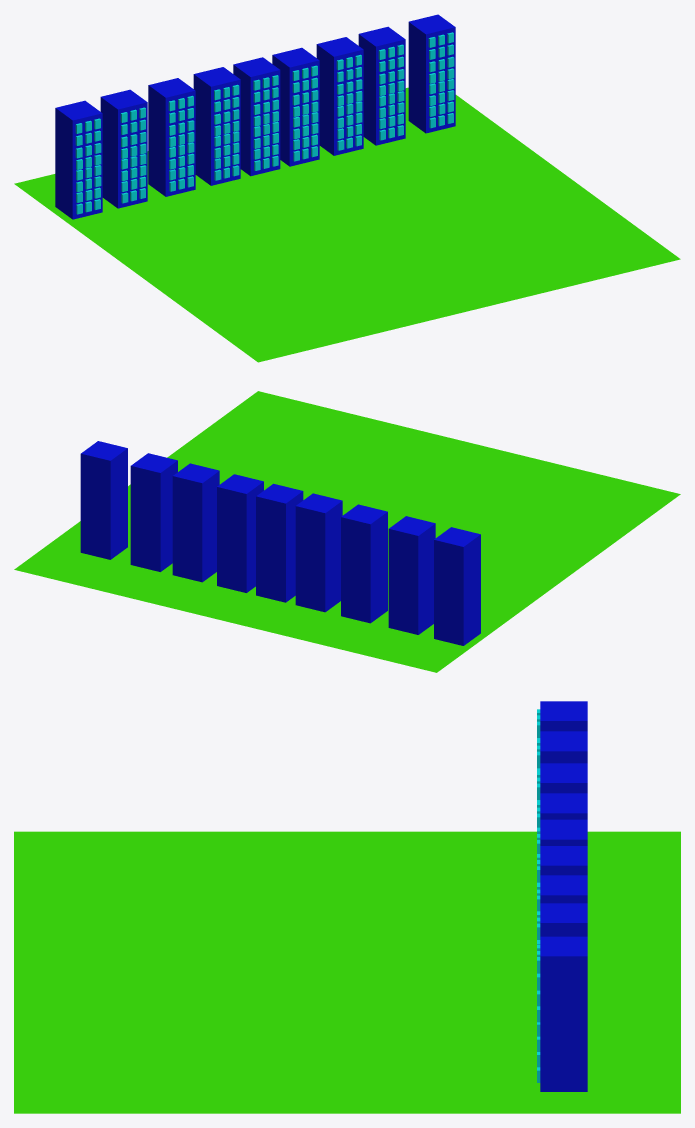
Rendered from City.glb.
3 views of the same model, one above another, from view 1: azimuth 30°, elevation 25°; view 2: azimuth 150°, elevation 25°; view 3: azimuth 270°, elevation 25° (orthographic). The views are drawn at different scales.
Visible parts, largest first — view 1: Plane, Cube.002, Cube.008, Cube, Cube.001, Cube.003, Cube.006, Cube.007, Cube.004, Cube.005; view 2: Plane, Cube.008, Cube, Cube.002, Cube.001, Cube.003, Cube.006, Cube.007, Cube.004, Cube.005; view 3: Plane, Cube.008, Cube.007, Cube.001, Cube, Cube.002, Cube.005, Cube.006, Cube.003, Cube.004.
Part boxes in pixels (x1=…): Plane: x1=14, y1=87, x2=680, y2=362; Cube.002: x1=148, y1=78, x2=195, y2=196; Cube.008: x1=408, y1=14, x2=455, y2=133; Cube: x1=55, y1=100, x2=102, y2=219; Cube.001: x1=100, y1=89, x2=147, y2=208; Cube.003: x1=193, y1=67, x2=240, y2=185; Cube.006: x1=316, y1=37, x2=363, y2=155; Cube.007: x1=358, y1=26, x2=405, y2=145; Cube.004: x1=233, y1=57, x2=280, y2=176; Cube.005: x1=272, y1=47, x2=319, y2=166; Plane: x1=14, y1=391, x2=680, y2=672; Cube.008: x1=80, y1=441, x2=127, y2=559; Cube: x1=434, y1=527, x2=480, y2=645; Cube.002: x1=341, y1=504, x2=387, y2=623; Cube.001: x1=388, y1=516, x2=435, y2=634; Cube.003: x1=295, y1=493, x2=342, y2=612; Cube.006: x1=172, y1=463, x2=219, y2=582; Cube.007: x1=130, y1=453, x2=177, y2=571; Cube.004: x1=256, y1=483, x2=303, y2=602; Cube.005: x1=217, y1=474, x2=263, y2=592; Plane: x1=14, y1=831, x2=680, y2=1113; Cube.008: x1=537, y1=936, x2=587, y2=1091; Cube.007: x1=537, y1=903, x2=587, y2=944; Cube.001: x1=537, y1=731, x2=587, y2=771; Cube: x1=537, y1=701, x2=587, y2=739; Cube.002: x1=537, y1=763, x2=587, y2=801; Cube.005: x1=537, y1=846, x2=587, y2=883; Cube.006: x1=537, y1=875, x2=587, y2=911; Cube.003: x1=537, y1=793, x2=587, y2=827; Cube.004: x1=537, y1=819, x2=587, y2=853.
Bounding box in the file's own units: 99.85 × 22.6 × 99.85.
